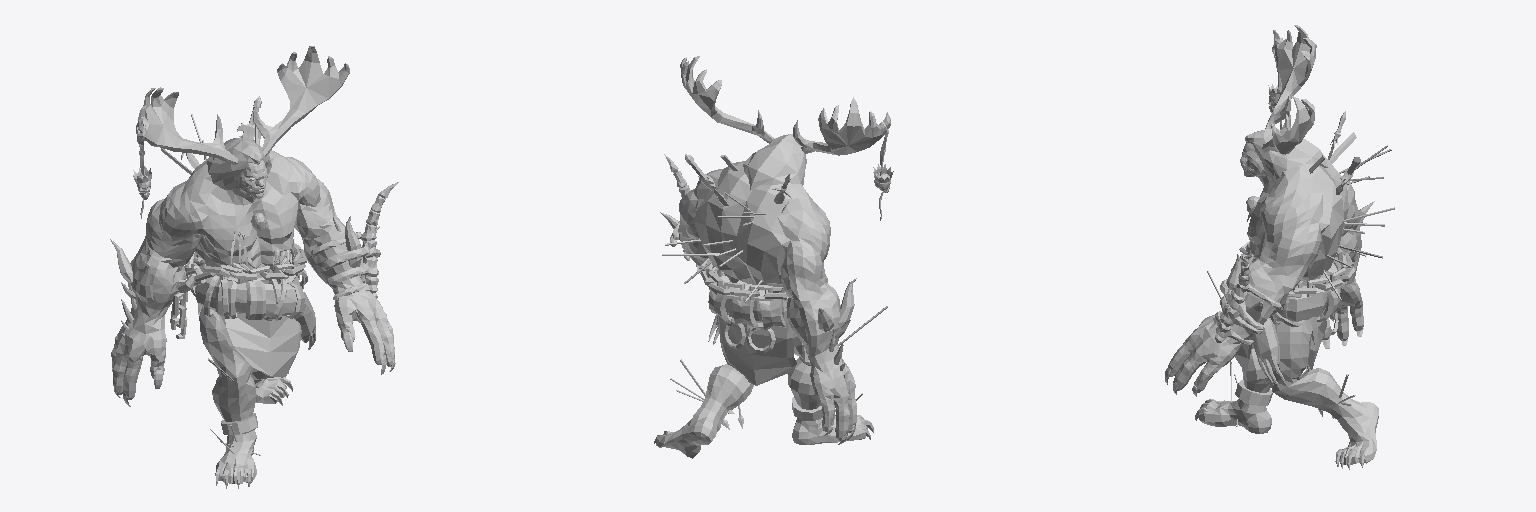
The model's file is walking_000029.obj.
3 views of the same model, side by side, from view 1: azimuth 30°, elevation 25°; view 2: azimuth 150°, elevation 25°; view 3: azimuth 270°, elevation 25° (orthographic).
Visible parts, largest first — view 1: MAW; view 2: MAW; view 3: MAW.
Part boxes in pixels (x1,y1,x2,y2): MAW: (110,46,398,488); MAW: (654,56,893,458); MAW: (1165,25,1394,469).
Bounding box in the file's own units: 15.47 × 22.59 × 12.41.